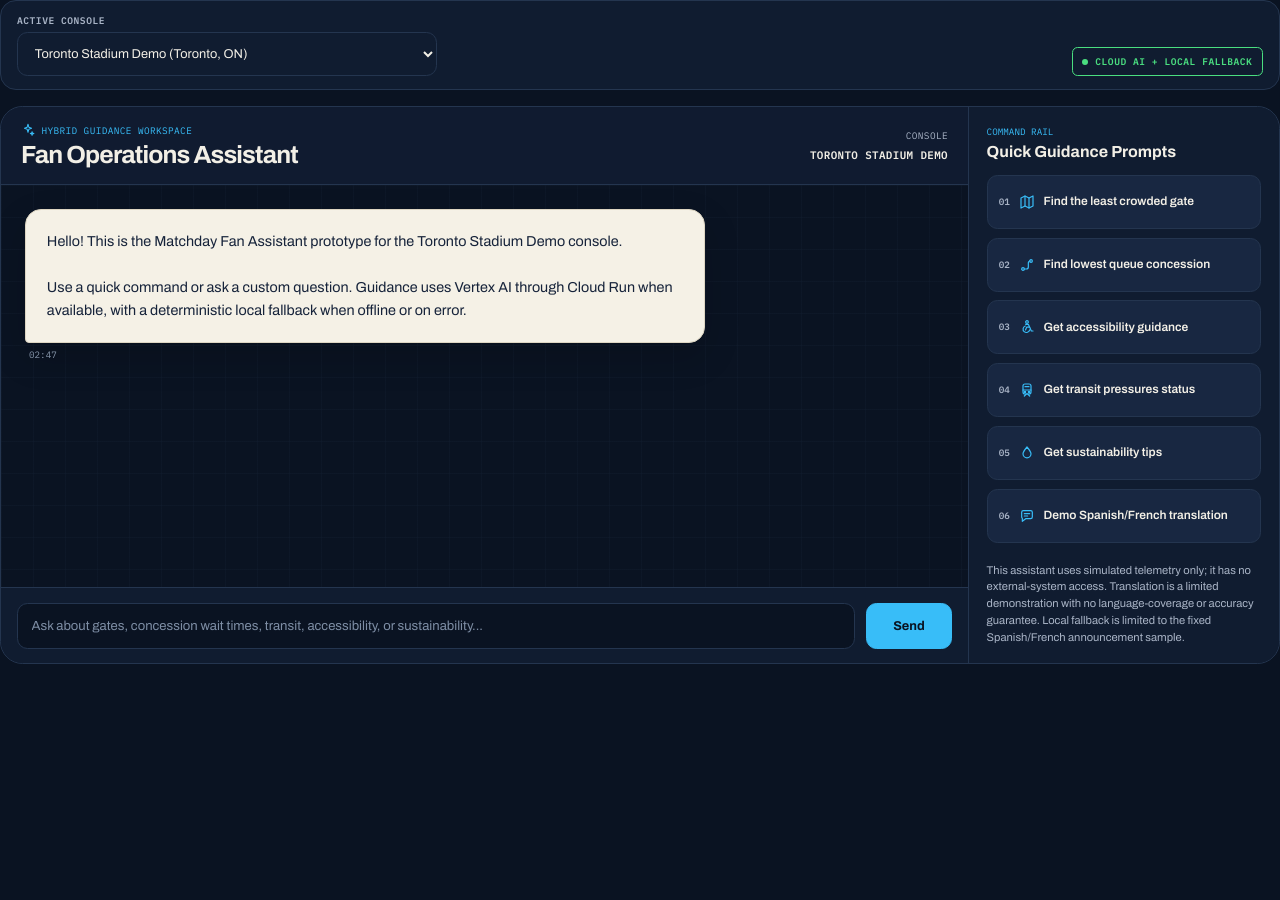
Test: Fan Assistant API Integration & Fallback Flow › switches to Local deterministic fallback on malformed JSON or invalid schema response
This screenshot has width=1280, height=900.
Click the button "03 Get accessibility guidance" at (1124,327), box x1=987 y1=300 x2=1261 y2=354
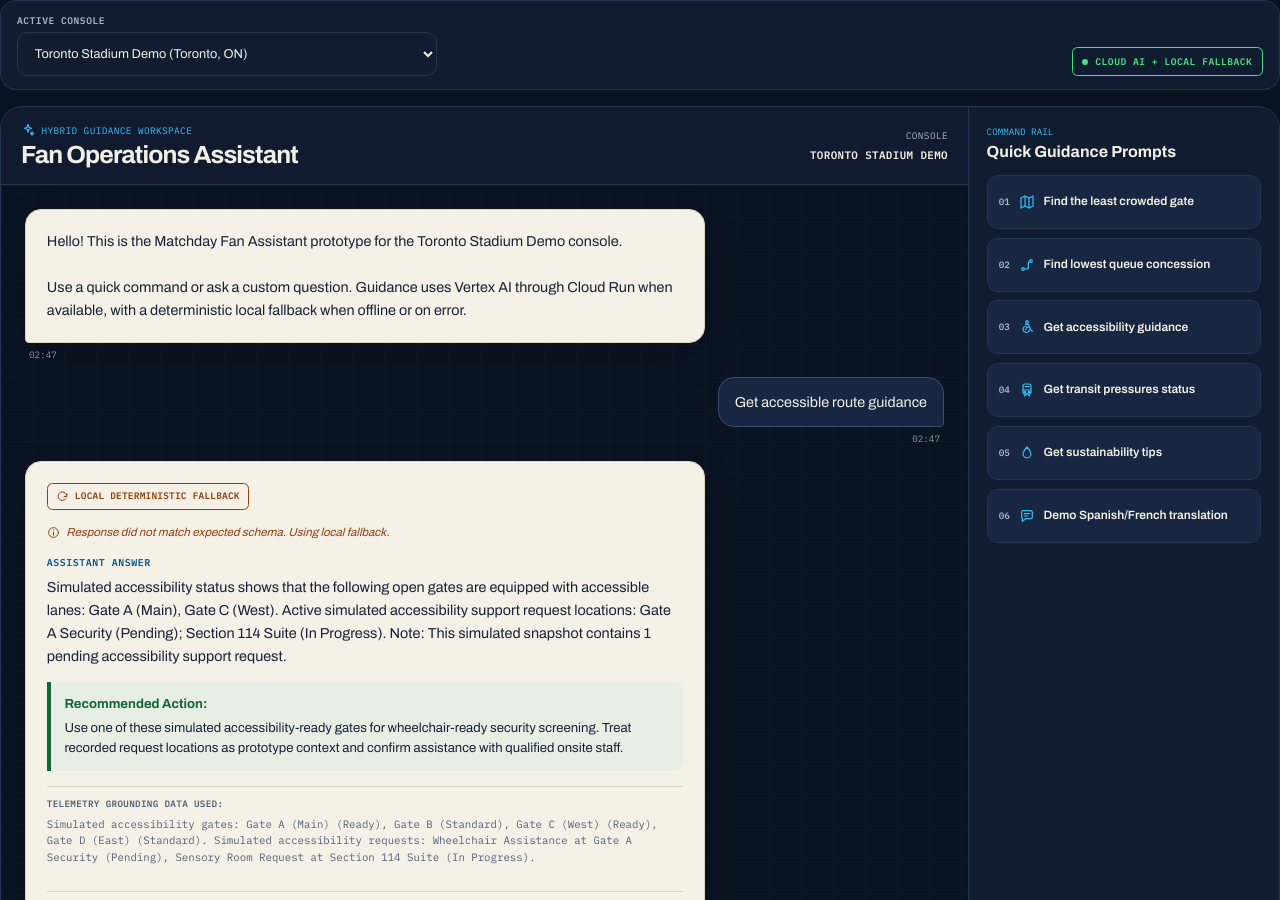
Now the text "Local deterministic fallback" is shown, box x1=47 y1=483 x2=249 y2=510
Now the text "Response did not match expected schema" is shown, box x1=66 y1=526 x2=389 y2=538
